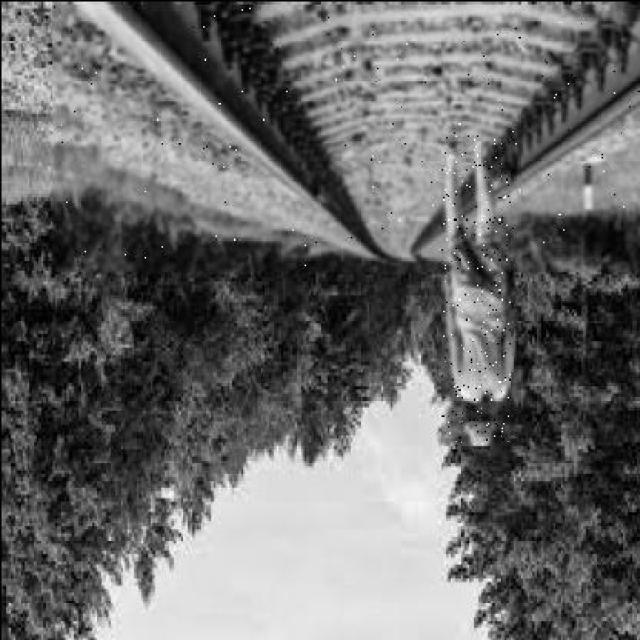rail: (53, 6, 640, 271)
